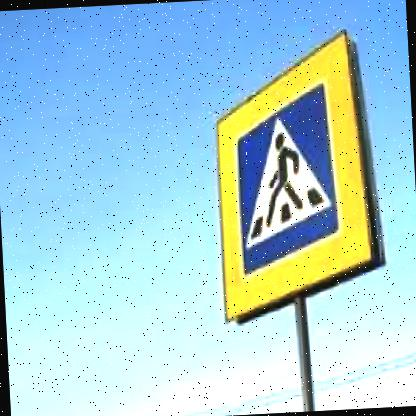crosswalk: (231, 76, 342, 277)
